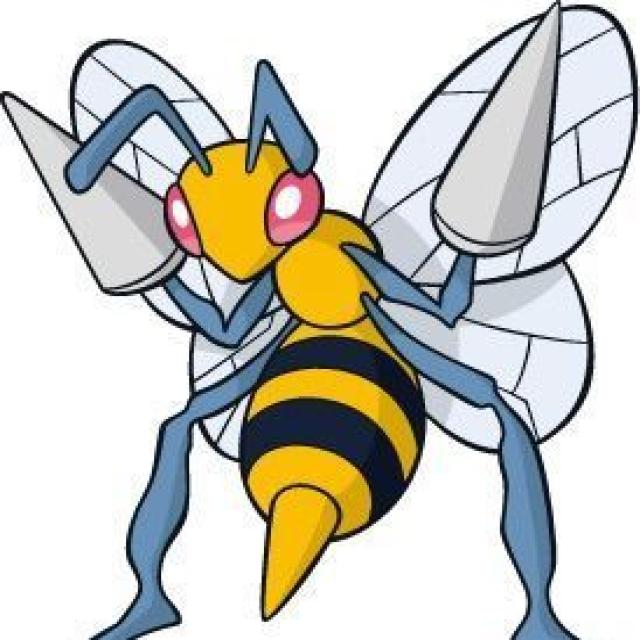Beedrill: (69, 96, 544, 625)
